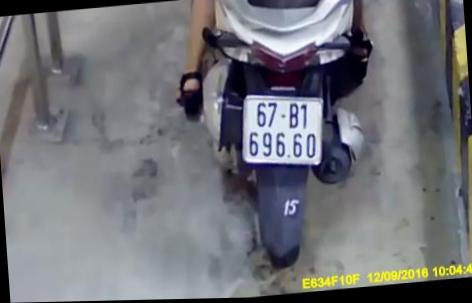LP: (236, 88, 327, 175)
